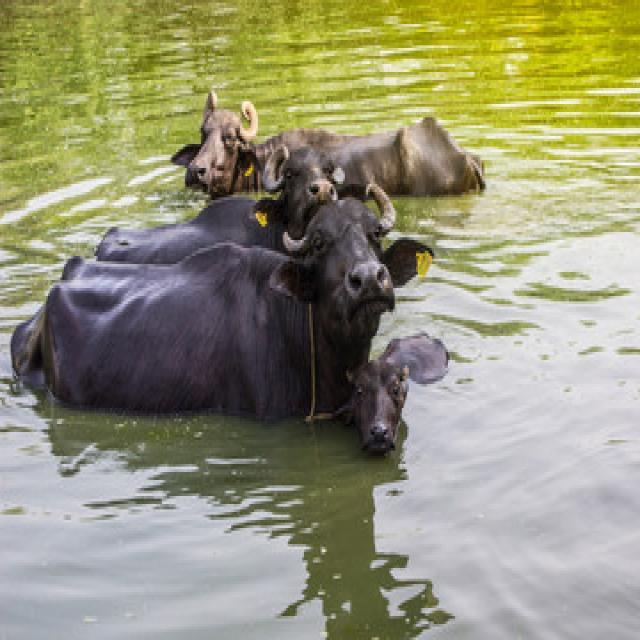Buffalo: (45, 182, 395, 398)
